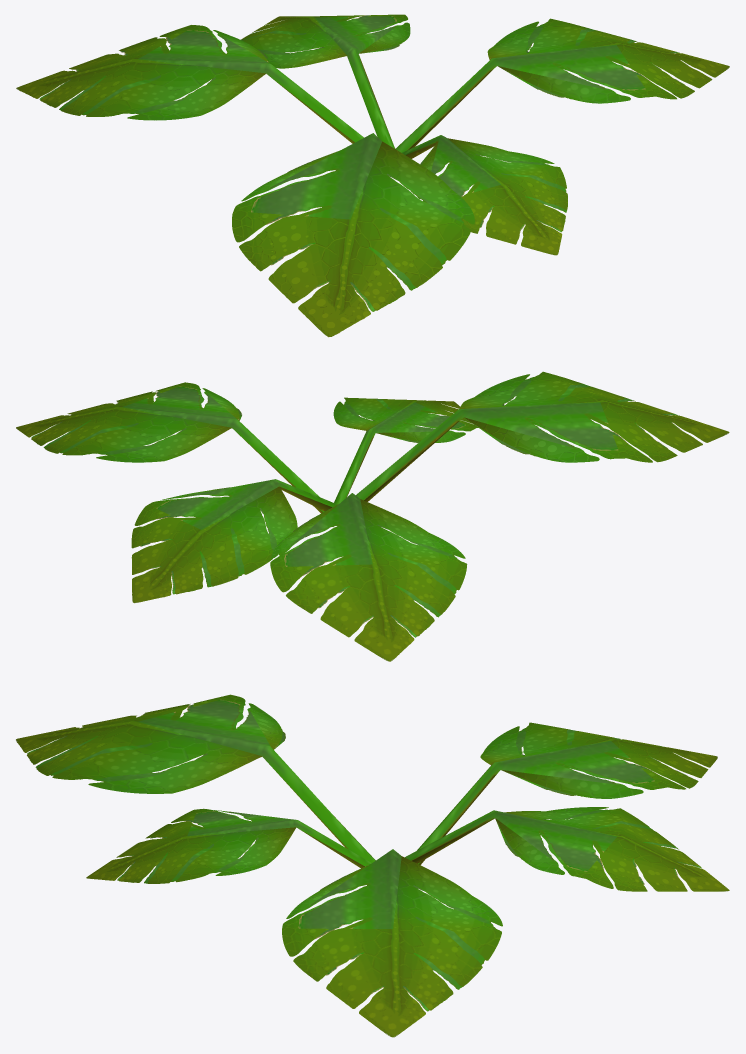
The model's file is peruskasvi_kuihtunut.FBX.
3 views of the same model, one above another, from view 1: azimuth 30°, elevation 25°; view 2: azimuth 150°, elevation 25°; view 3: azimuth 270°, elevation 25° (orthographic). The views are drawn at different scales.
Visible parts, largest first — view 1: peruskasvi_lehti002, peruskasvi_lehti001, peruskasvi_lehti, peruskasvi_lehti004, peruskasvi_lehti003; view 2: peruskasvi_lehti001, peruskasvi_lehti002, peruskasvi_lehti003, peruskasvi_lehti, peruskasvi_lehti004; view 3: peruskasvi_lehti, peruskasvi_lehti002, peruskasvi_lehti003, peruskasvi_lehti001, peruskasvi_lehti004.
Boxes of the visible parts, <box> form: peruskasvi_lehti002: <box>232,133,474,337</box>; peruskasvi_lehti001: <box>16,25,363,143</box>; peruskasvi_lehti: <box>395,18,729,152</box>; peruskasvi_lehti004: <box>402,135,567,255</box>; peruskasvi_lehti003: <box>241,14,410,148</box>; peruskasvi_lehti001: <box>270,493,467,661</box>; peruskasvi_lehti002: <box>356,371,729,501</box>; peruskasvi_lehti003: <box>131,479,337,603</box>; peruskasvi_lehti: <box>16,382,324,513</box>; peruskasvi_lehti004: <box>333,397,478,504</box>; peruskasvi_lehti: <box>282,849,502,1037</box>; peruskasvi_lehti002: <box>16,694,375,862</box>; peruskasvi_lehti003: <box>405,807,729,891</box>; peruskasvi_lehti001: <box>417,722,717,864</box>; peruskasvi_lehti004: <box>86,808,371,883</box>.
Size of the model in its own units: 82.08 by 12.5 by 82.8.
